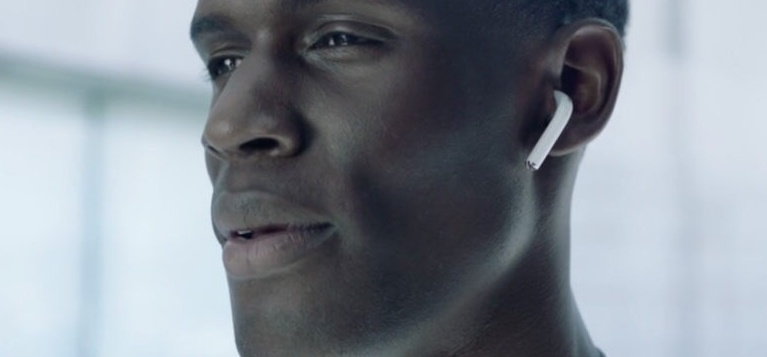earphone: (525, 17, 624, 173)
